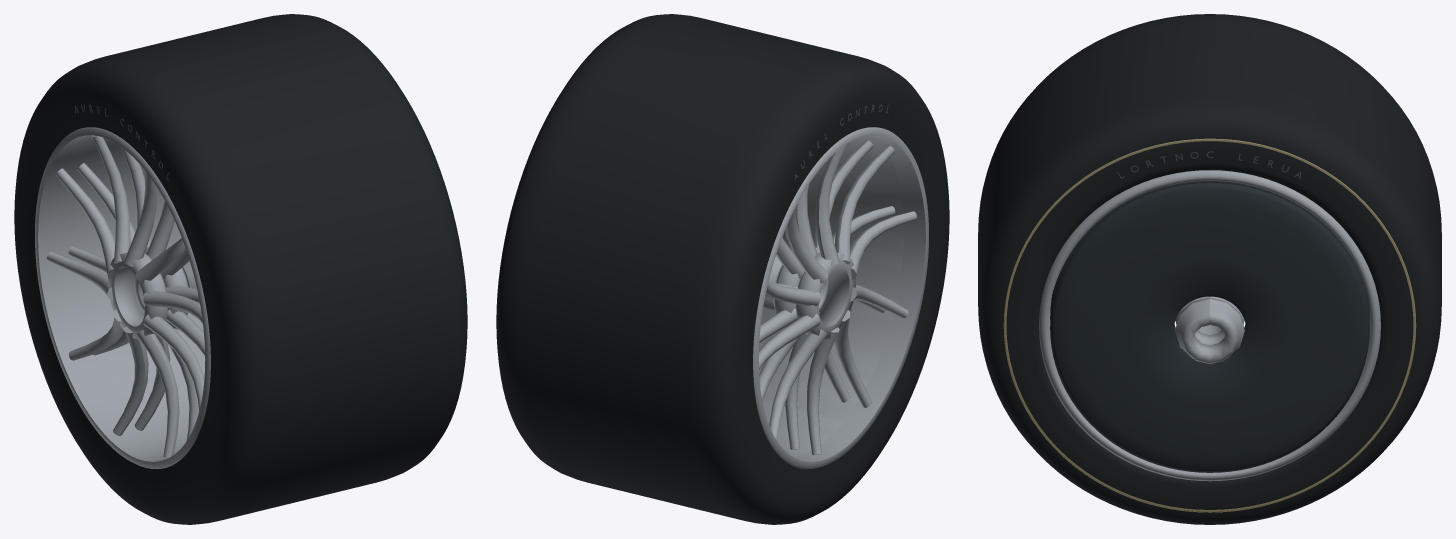
File: aurel-a33-spare-wheel-set.glb
The picture shows the model from 3 angles, left to right: view 1: azimuth 30°, elevation 25°; view 2: azimuth 150°, elevation 25°; view 3: azimuth 270°, elevation 25°; orthographic projection. The views are drawn at different scales.
Parts seen in each view (by area): view 1: A33_REAR_LOD0, A33_FRONT_LOD0; view 2: A33_REAR_LOD0, A33_FRONT_LOD0; view 3: A33_REAR_LOD0, A33_FRONT_LOD0.
Boxes of the visible parts, box(x1,y1,x2,y2) form: A33_REAR_LOD0: box(14, 14, 467, 524); A33_FRONT_LOD0: box(59, 22, 414, 507); A33_REAR_LOD0: box(496, 14, 949, 524); A33_FRONT_LOD0: box(549, 23, 904, 510); A33_REAR_LOD0: box(978, 14, 1441, 524); A33_FRONT_LOD0: box(978, 34, 1441, 344).
Size of what is drawn, in the model's own units: 0.434 by 0.67 by 0.67.
